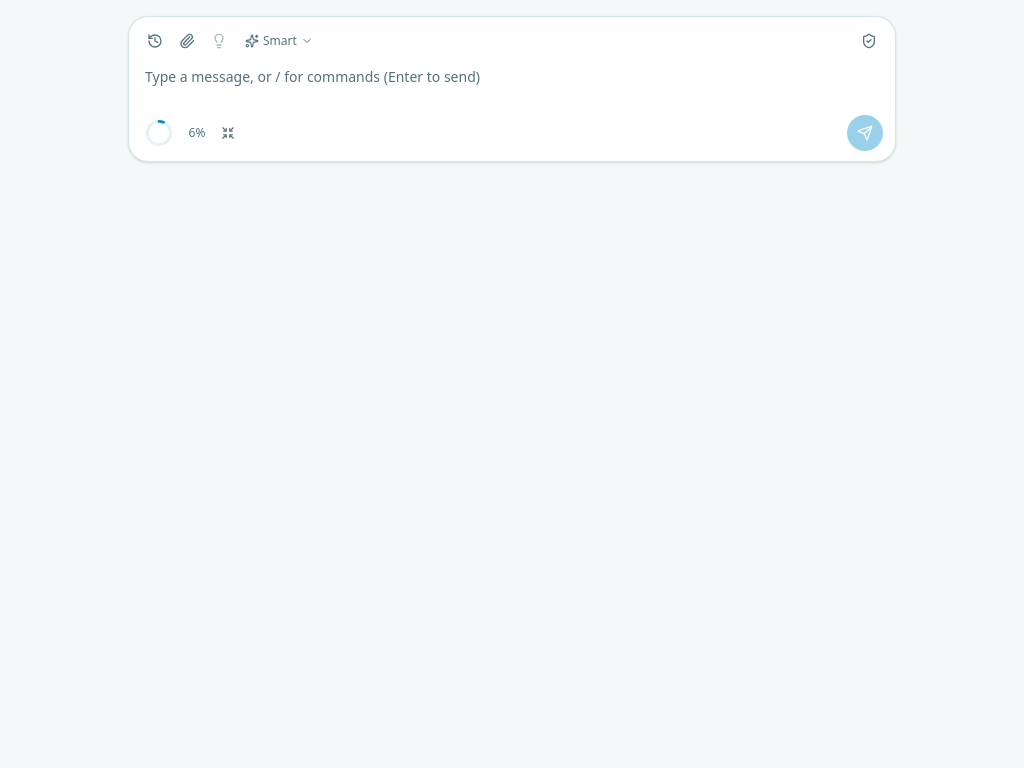
Test: chat-level compact control (VCP-D3) › does not announce zero token savings when Recap compaction has no measurements
This screenshot has width=1024, height=768.
Step 1. Click the button "6%" → (190, 133), box [141, 117, 239, 149]
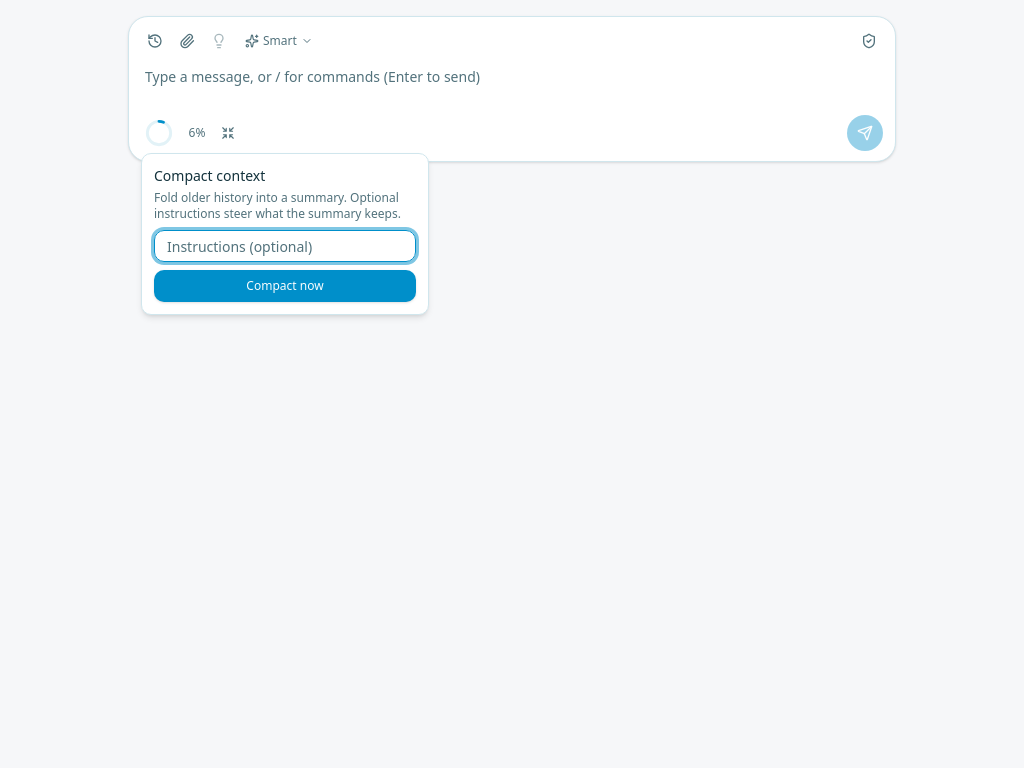
Step 2. Click the button "Compact now" → (285, 286), box [154, 270, 416, 302]
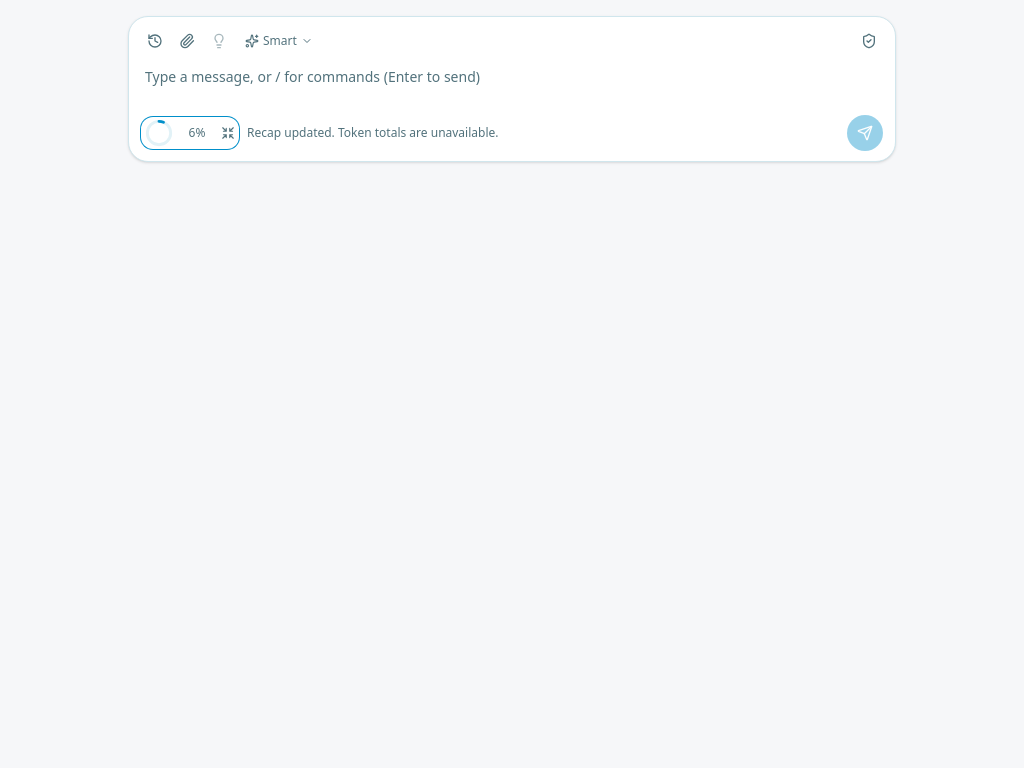
Now the text "Recap updated. Token totals are unavailable." is shown, box [247, 125, 498, 141]
